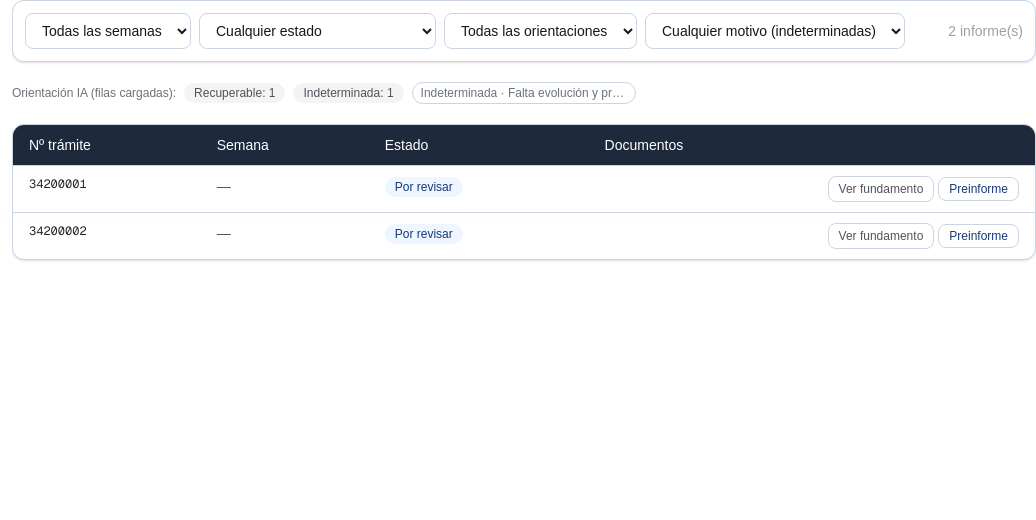
Scenario: Informes · orientación IA › el fundamento se pide a demanda y trae la orientación y su motivo
The image size is (1036, 520).
Expected: the text "34200001" is shown, top-left (13, 166), bottom-right (201, 212)
Click the button "Ver fundamento" in the row of "34200001".
click(881, 189)  # box top-left (828, 176), bottom-right (934, 202)
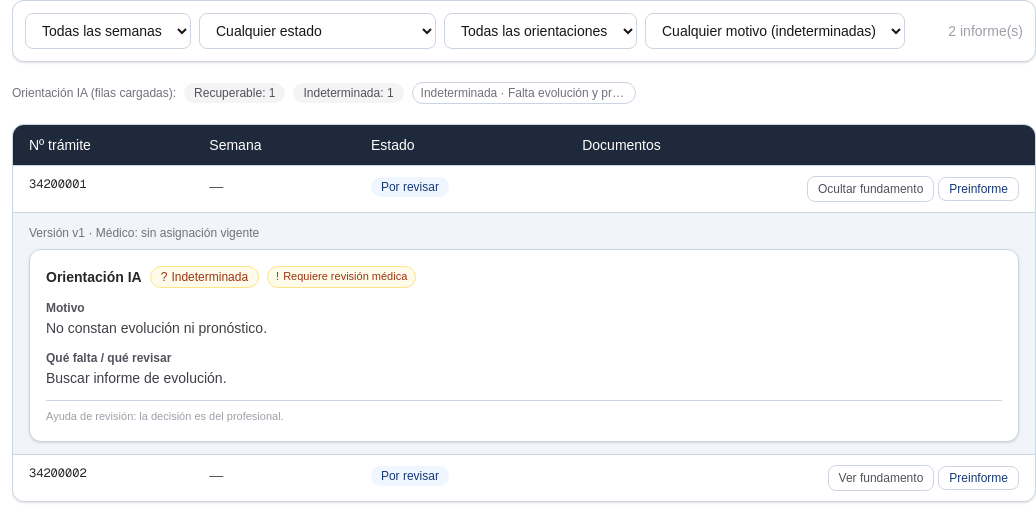
Expected: the text "No constan evolución ni pronóstico." is shown, top-left (46, 320), bottom-right (267, 336)
Expected: the text "Motivo" is shown, top-left (46, 301), bottom-right (85, 315)
